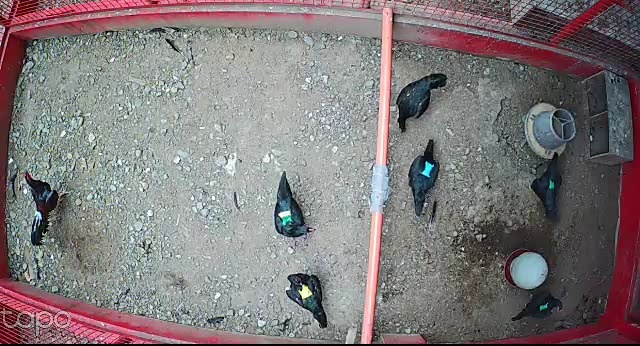Chicken: (394, 73, 448, 136), (406, 135, 444, 218), (273, 167, 315, 237), (284, 271, 329, 333), (528, 148, 562, 224), (509, 290, 565, 324)
Drinker: (504, 250, 549, 291)
Feeder: (524, 102, 576, 159)
Rooster: (17, 165, 73, 252)
Saddle_Color_Blue: (420, 161, 436, 177)
Saddle_Color_Yellow: (298, 282, 313, 300)
Saddle_Color_YellowGreen: (277, 208, 294, 226)
